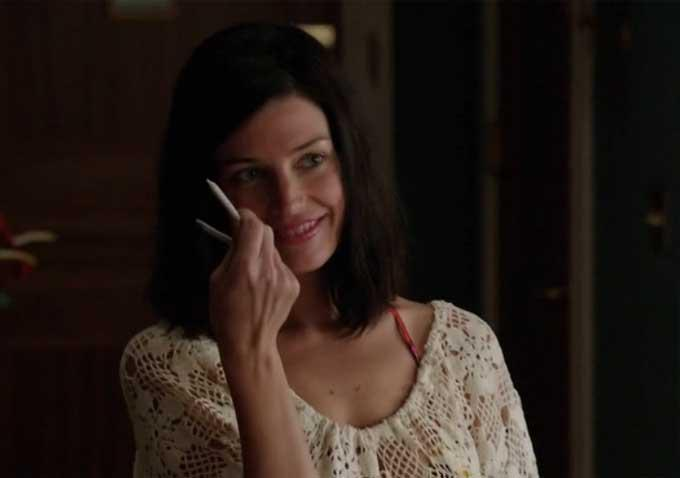smoking: (201, 172, 264, 247), (189, 214, 239, 256)
